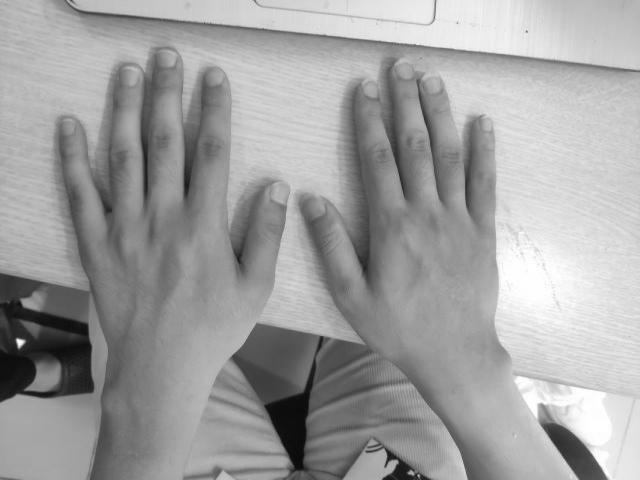not-gloved: (57, 45, 290, 349), (304, 60, 500, 342)
